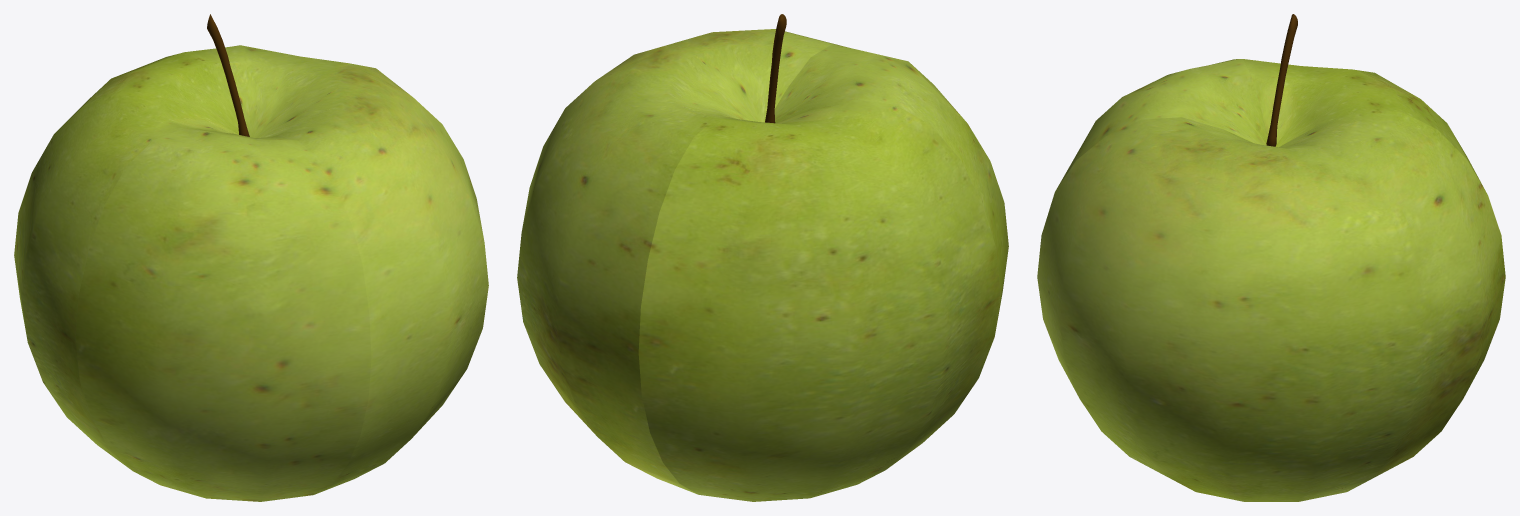
Rendered from яблоко.fbx.
3 renders of one model, left to right at view 1: azimuth 30°, elevation 25°; view 2: azimuth 150°, elevation 25°; view 3: azimuth 270°, elevation 25°, orthographic. The views are drawn at different scales.
Parts seen in each view (by area): view 1: Sphere.001; view 2: Sphere.001; view 3: Sphere.001.
Boxes of the visible parts, x1,y1,x2,y2 form: Sphere.001: [14, 14, 488, 501]; Sphere.001: [517, 14, 1008, 501]; Sphere.001: [1037, 14, 1505, 501].
Bounding box in the file's own units: 40.24 × 42.33 × 41.27.
Materials: 2 (1 with a texture image).
